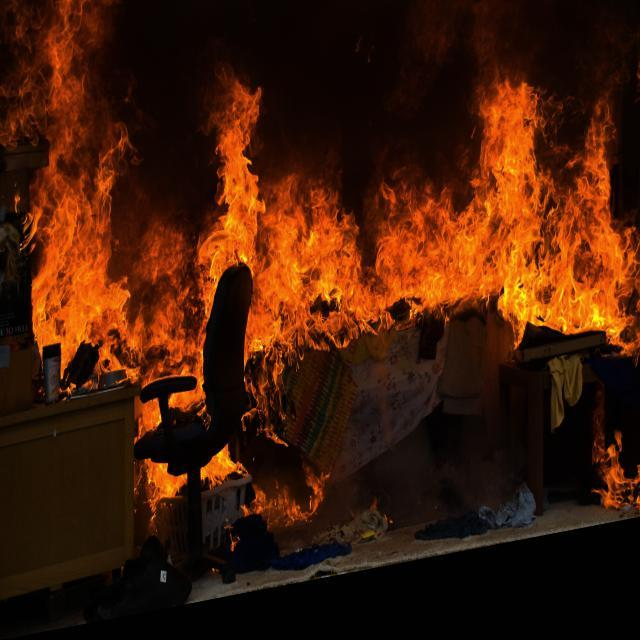Fire: (8, 0, 637, 580)
